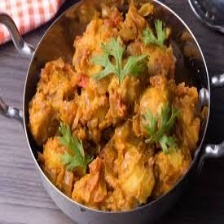sabzi: (25, 0, 208, 211)
